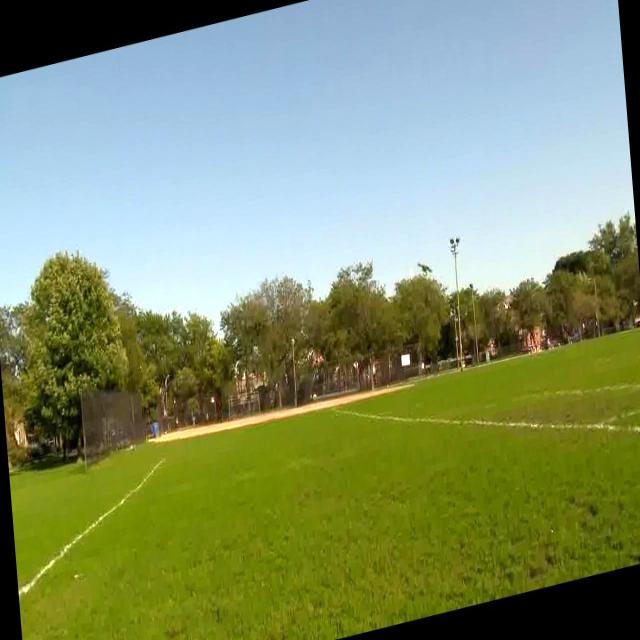drone: (416, 249, 436, 285)
